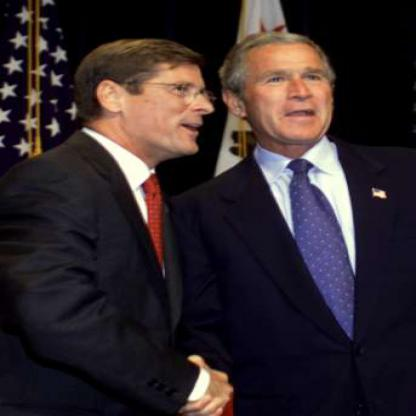face: (121, 42, 224, 161), (239, 34, 344, 145)
